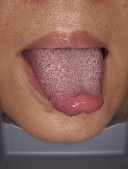tongue: (21, 52, 105, 119)
